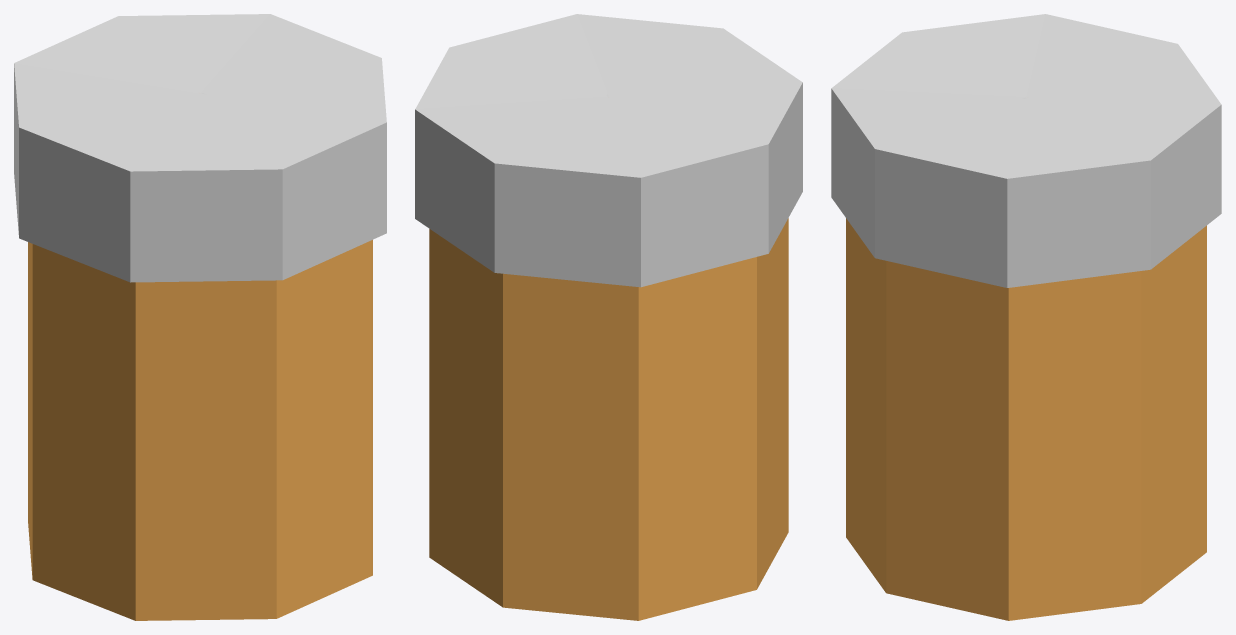
Rendered from Pill Bottle.fbx.
The picture shows the model from 3 angles, left to right: view 1: azimuth 30°, elevation 25°; view 2: azimuth 150°, elevation 25°; view 3: azimuth 270°, elevation 25°; orthographic projection.
Visible parts, largest first — view 1: Cylinder; view 2: Cylinder; view 3: Cylinder.
Boxes of the visible parts, x1,y1,x2,y2 form: Cylinder: (14, 14, 386, 620); Cylinder: (415, 14, 802, 620); Cylinder: (831, 14, 1221, 620).
Bounding box in the file's own units: 206 × 261 × 206.
